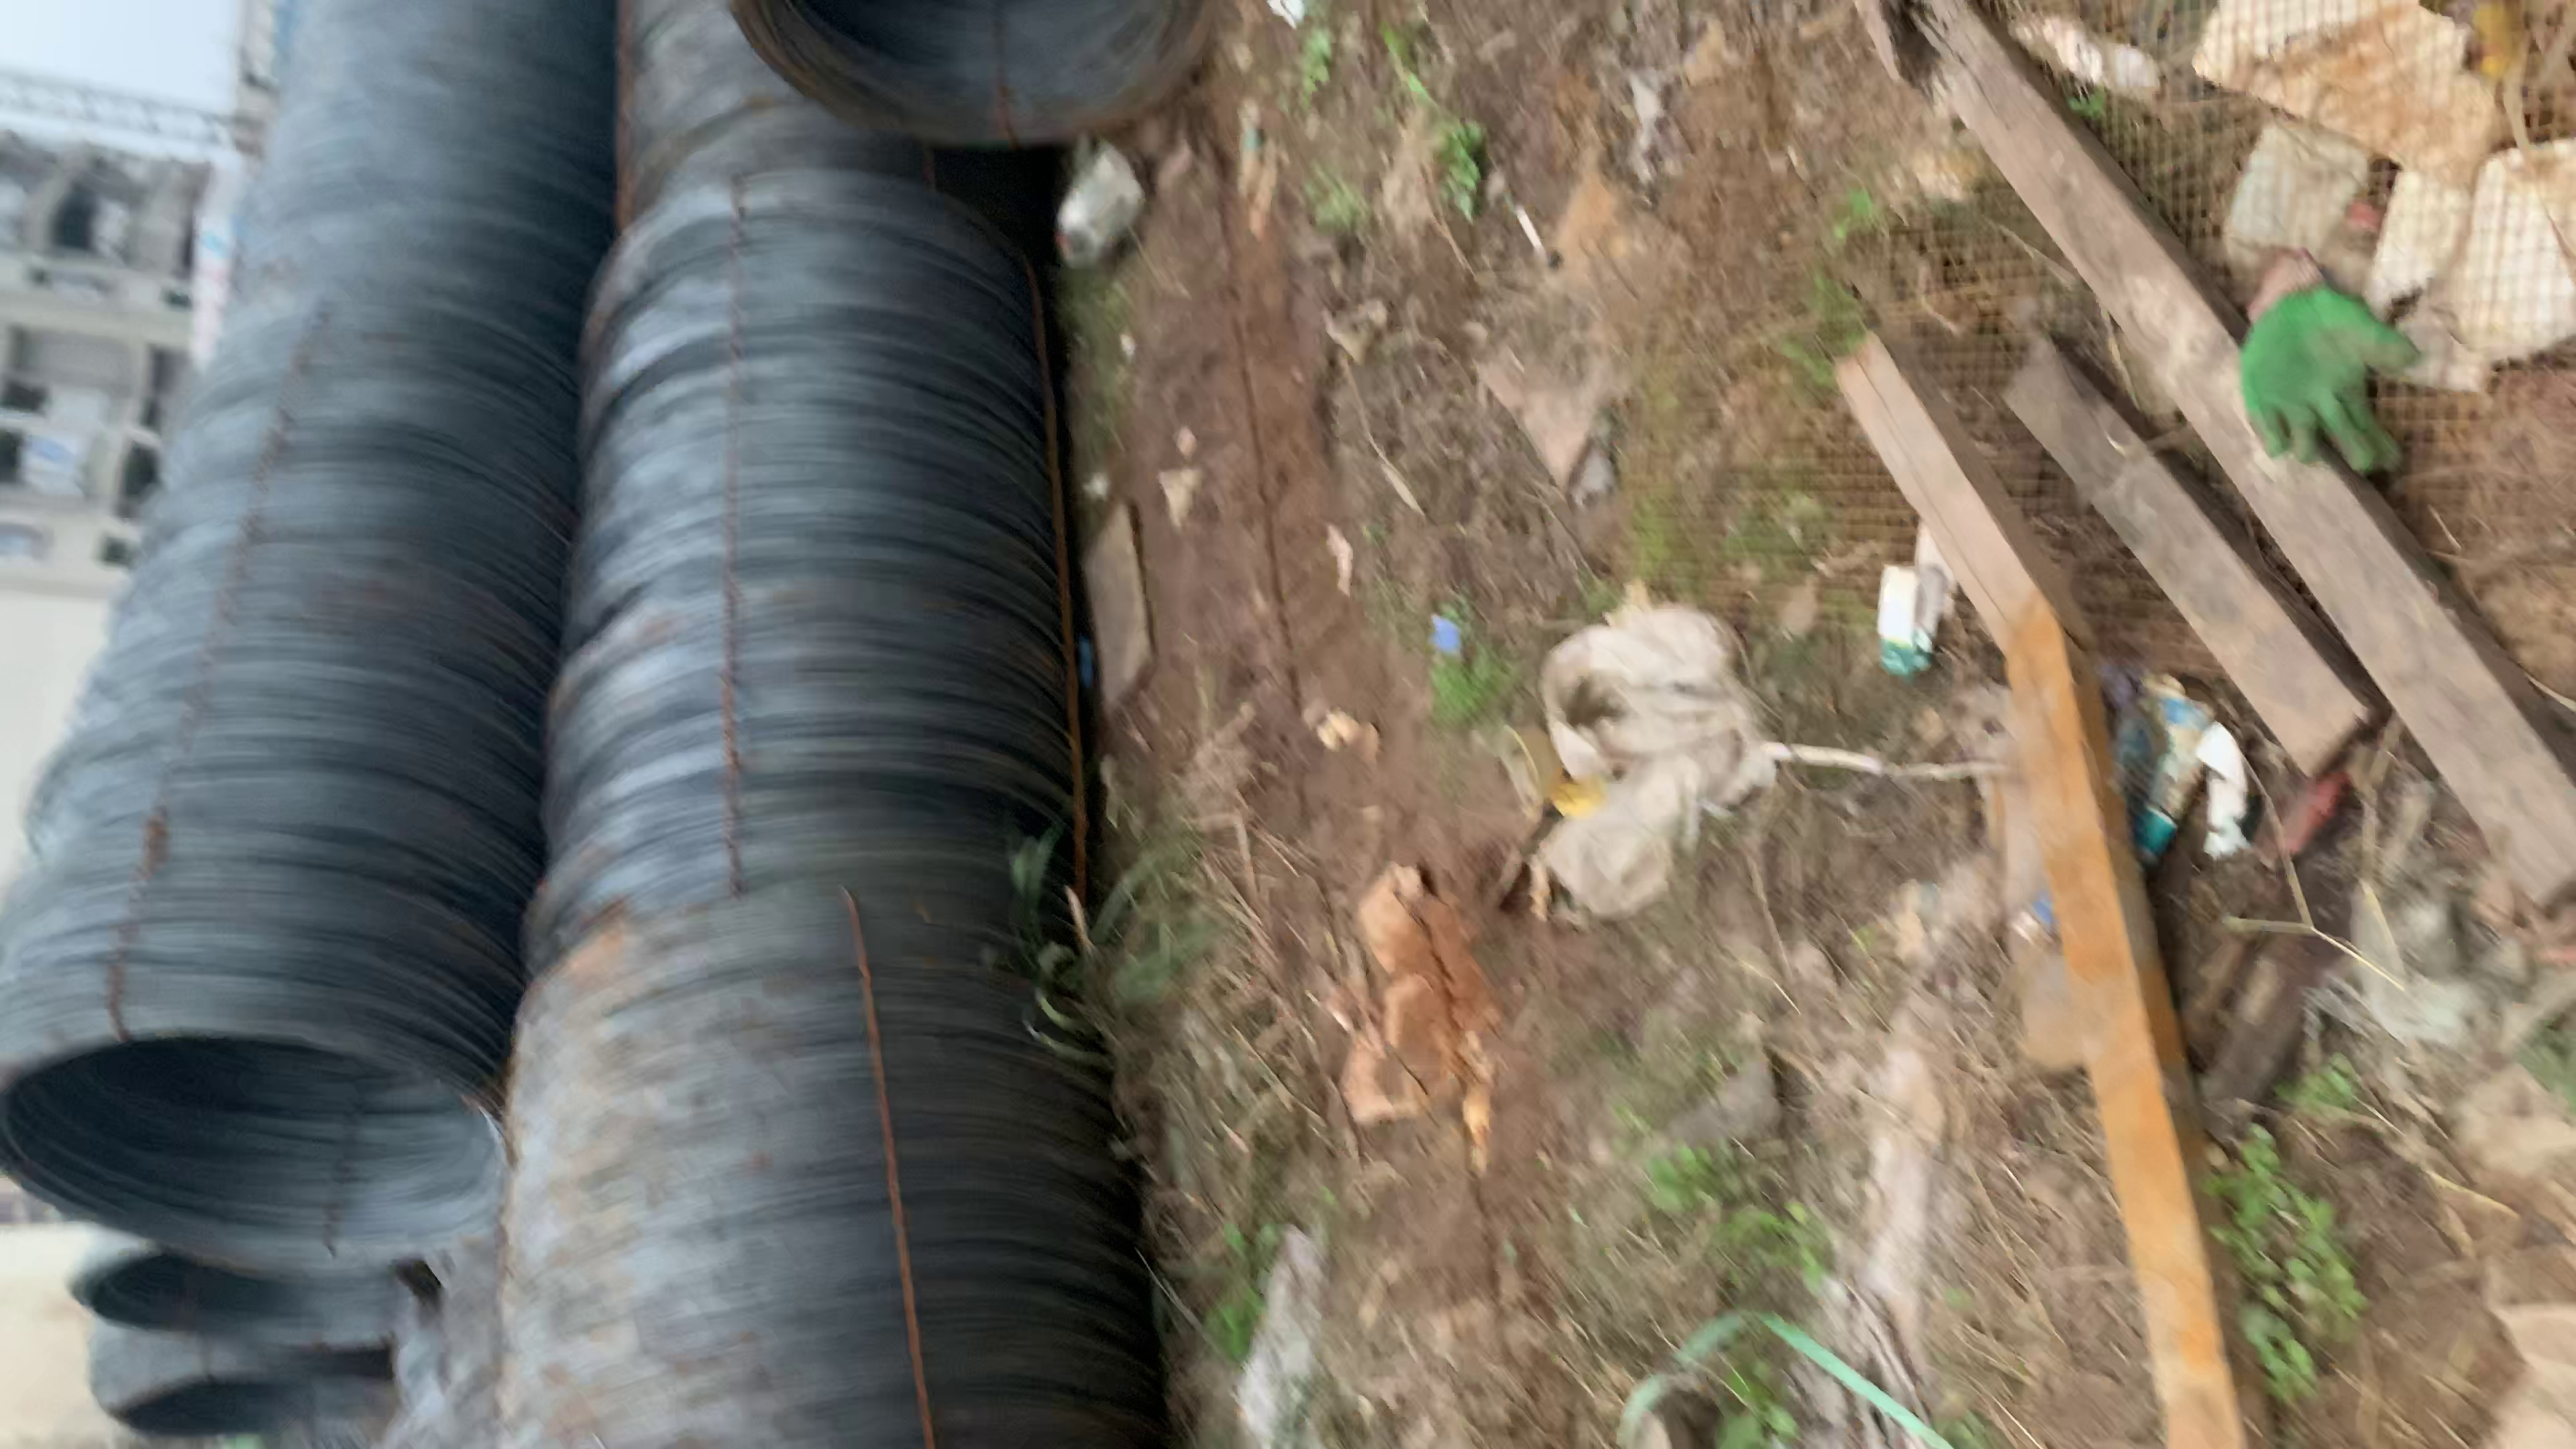coil: (0, 980, 510, 1277), (736, 0, 1254, 149), (28, 1240, 446, 1394), (69, 1371, 393, 1442)
